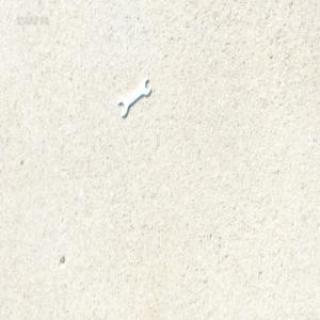Wrenchtrack_idkeyframe: (117, 76, 152, 116)
